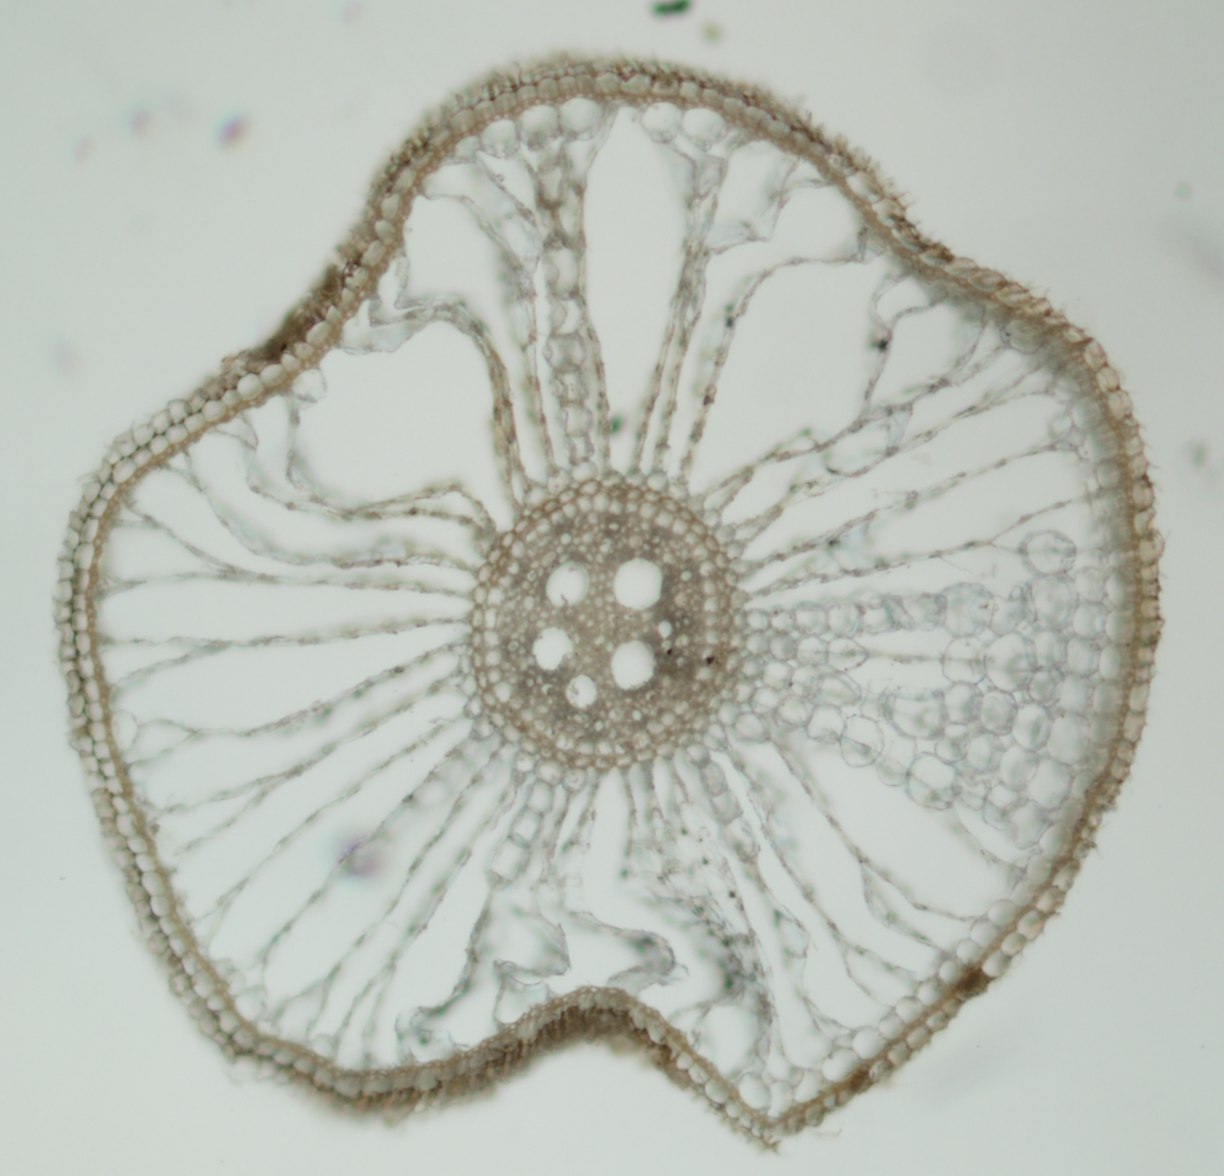lm: (614, 558, 663, 609), (610, 640, 656, 689), (545, 560, 589, 607), (532, 626, 572, 671), (565, 674, 597, 708)
